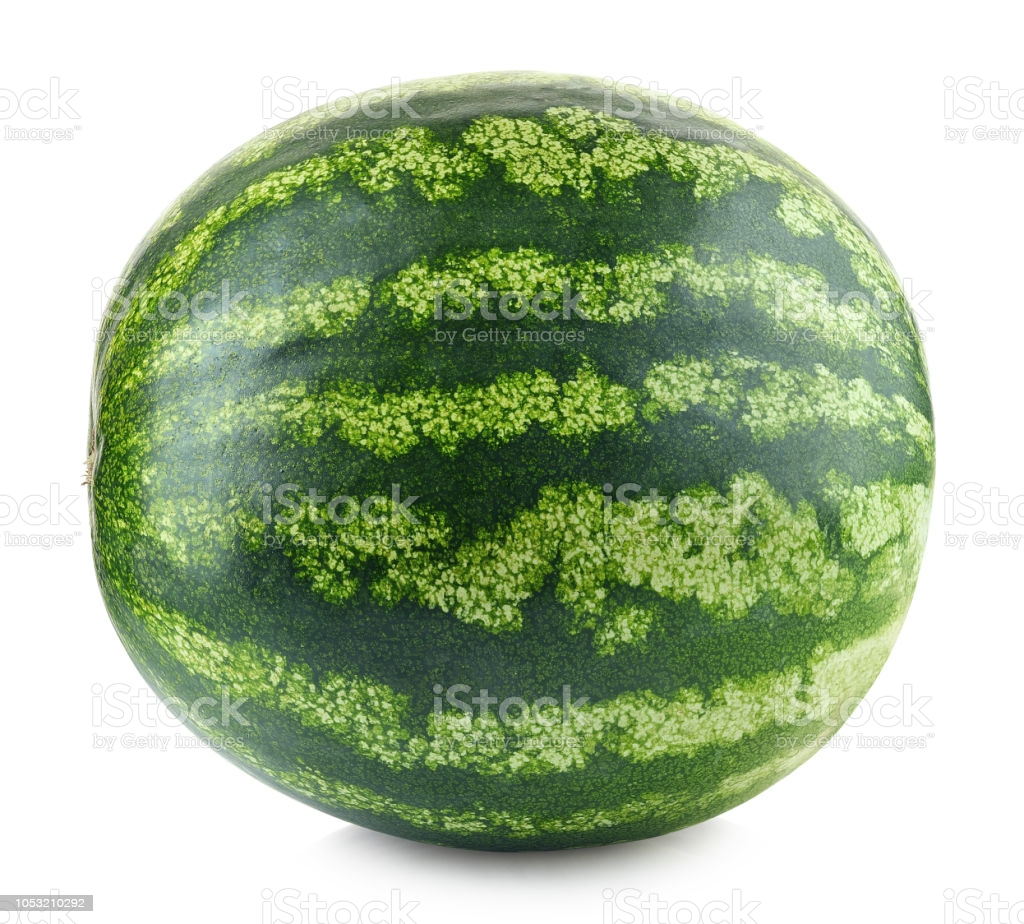watermelon: (77, 71, 938, 857)
